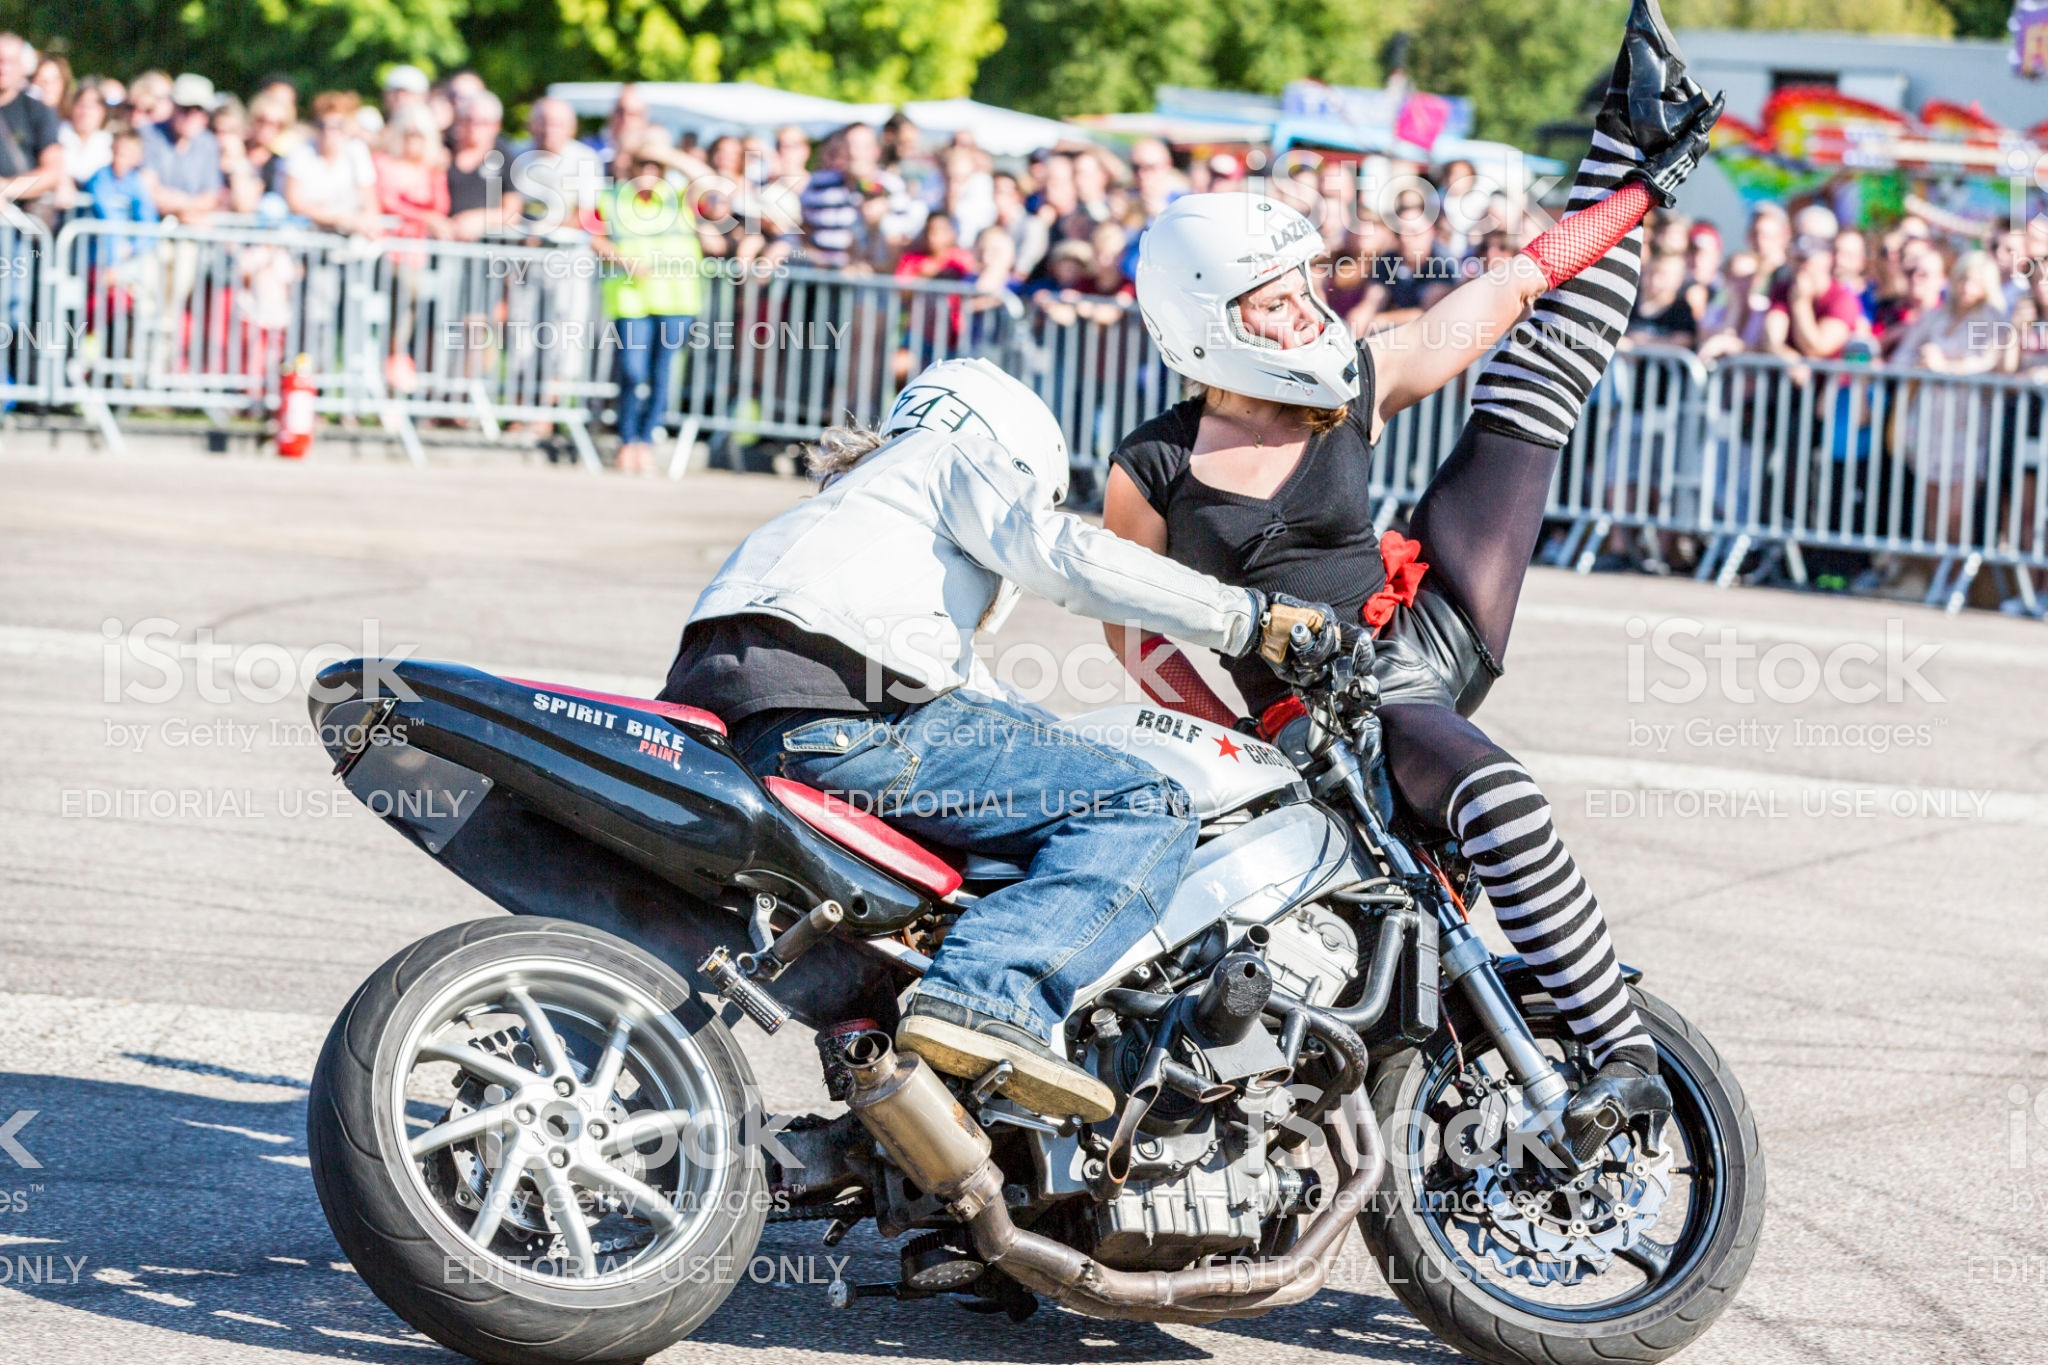helmet: (1124, 171, 1405, 431), (895, 331, 1081, 494)
